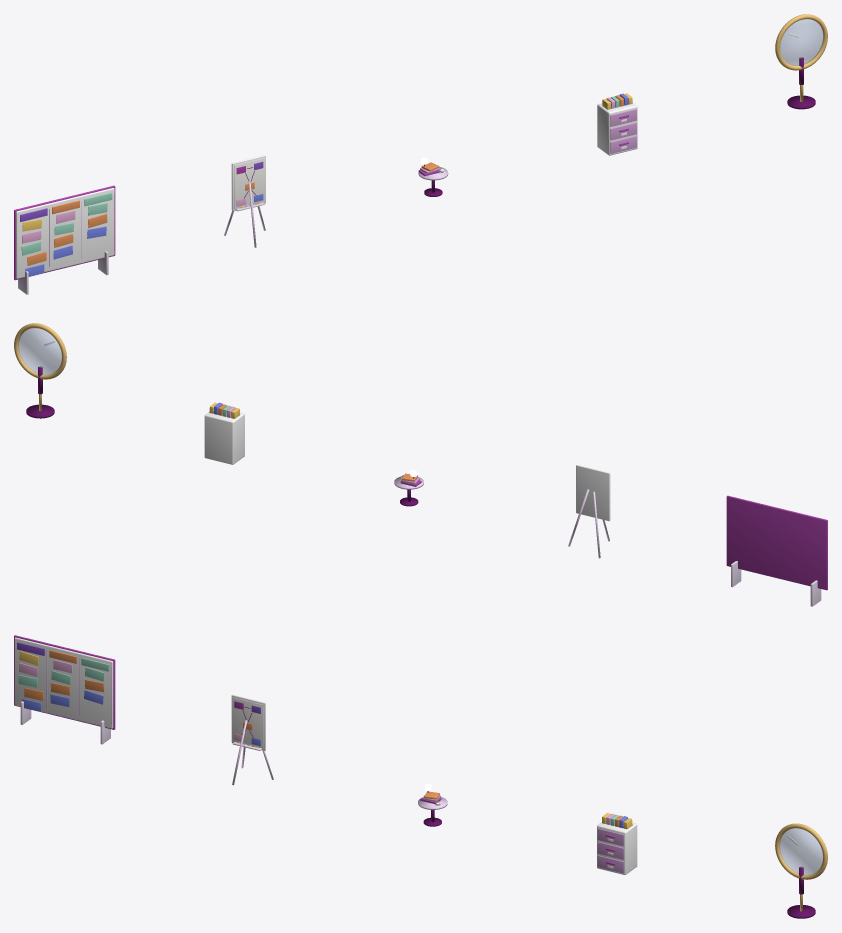
File: strategy_b.glb
3 renders of one model, top to bottom at view 1: azimuth 30°, elevation 25°; view 2: azimuth 150°, elevation 25°; view 3: azimuth 330°, elevation 25°, orthographic.
Parts seen in each view (by area): view 1: Board, LensGlass, Paper, Cabinet, LensRing, Frame; view 2: Frame, Cabinet, PadBack, LensGlass, LensRing; view 3: Board, LensGlass, Paper, Cabinet, LensRing, Frame.
Boxes of the visible parts, x1=… form: Board: x1=16, y1=188, x2=114, y2=278; LensGlass: x1=780, y1=19, x2=823, y2=65; Paper: x1=234, y1=158, x2=264, y2=208; Cabinet: x1=597, y1=103, x2=637, y2=155; LensRing: x1=775, y1=14, x2=827, y2=70; Frame: x1=14, y1=185, x2=115, y2=280; Frame: x1=726, y1=495, x2=827, y2=590; Cabinet: x1=204, y1=412, x2=244, y2=464; PadBack: x1=576, y1=465, x2=610, y2=521; LensGlass: x1=18, y1=328, x2=61, y2=374; LensRing: x1=14, y1=323, x2=66, y2=379; Board: x1=14, y1=637, x2=113, y2=728; LensGlass: x1=779, y1=828, x2=822, y2=875; Paper: x1=232, y1=697, x2=263, y2=748; Cabinet: x1=597, y1=822, x2=637, y2=874; LensRing: x1=775, y1=823, x2=827, y2=879; Frame: x1=14, y1=635, x2=115, y2=729.
Size of the model in its own units: 26.49 by 2.77 by 1.19.
